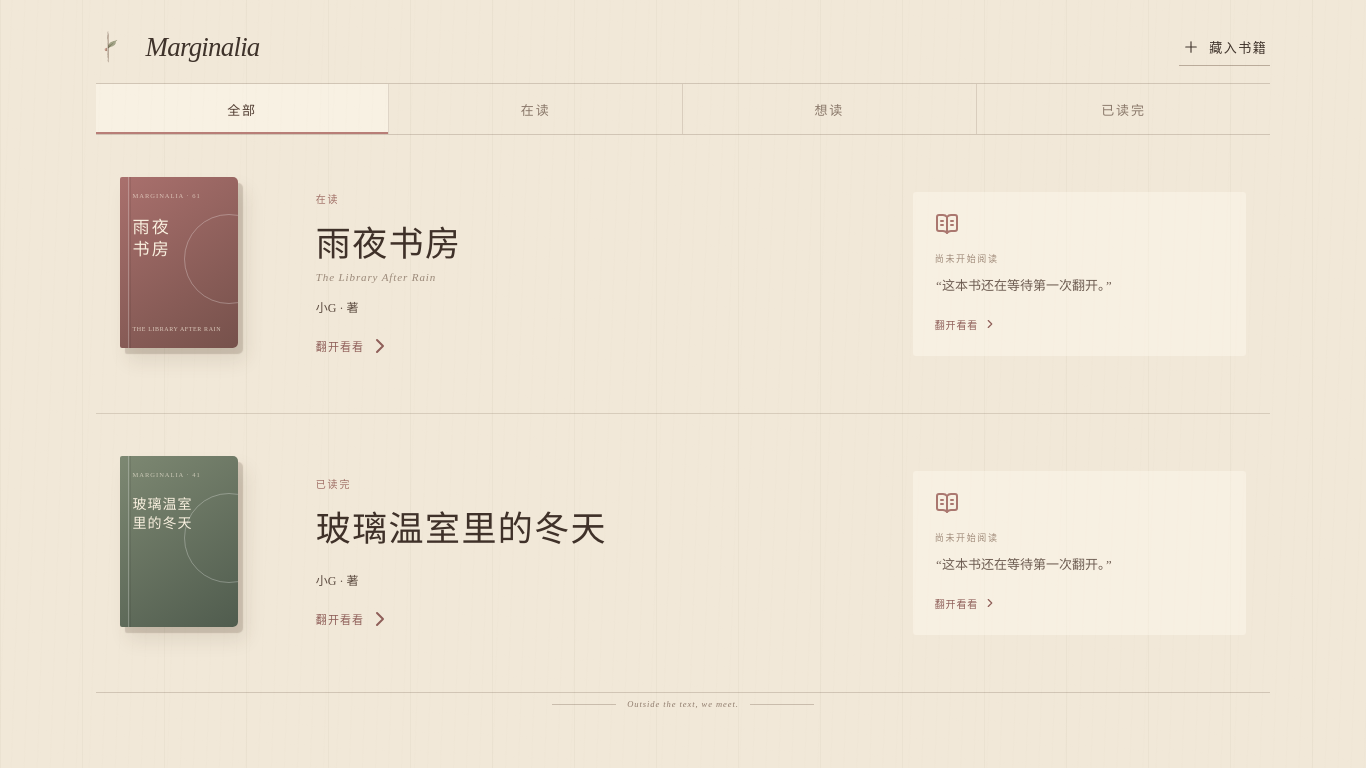
Scenario: Marginalia visual prototype › filters the mobile-friendly shelf
Check: the text "玻璃温室里的冬天" is shown, box [316, 500, 607, 550]
Click the button "已读完".
click(1124, 109)  # box [977, 84, 1270, 134]
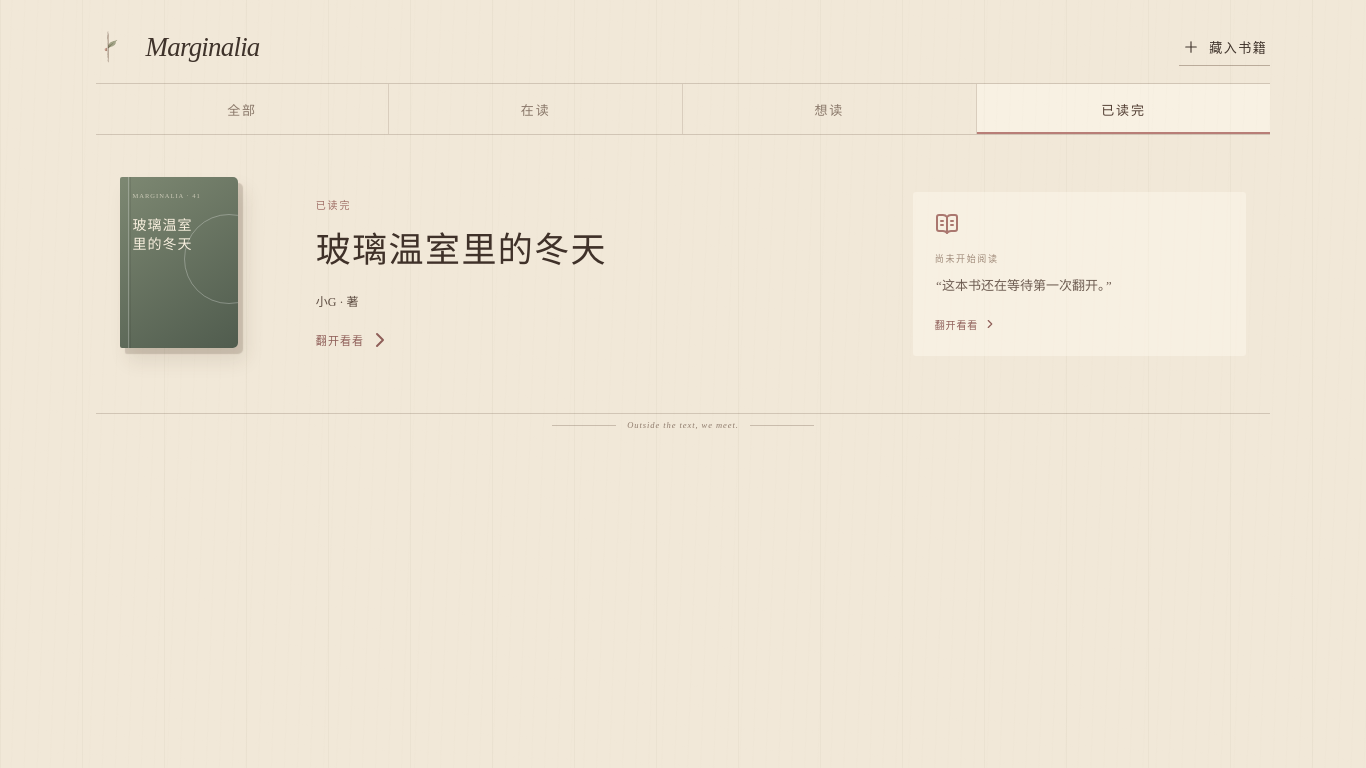
Check: the text "玻璃温室里的冬天" is shown, box [316, 220, 607, 272]
Check: the button "雨夜书房" is gone
